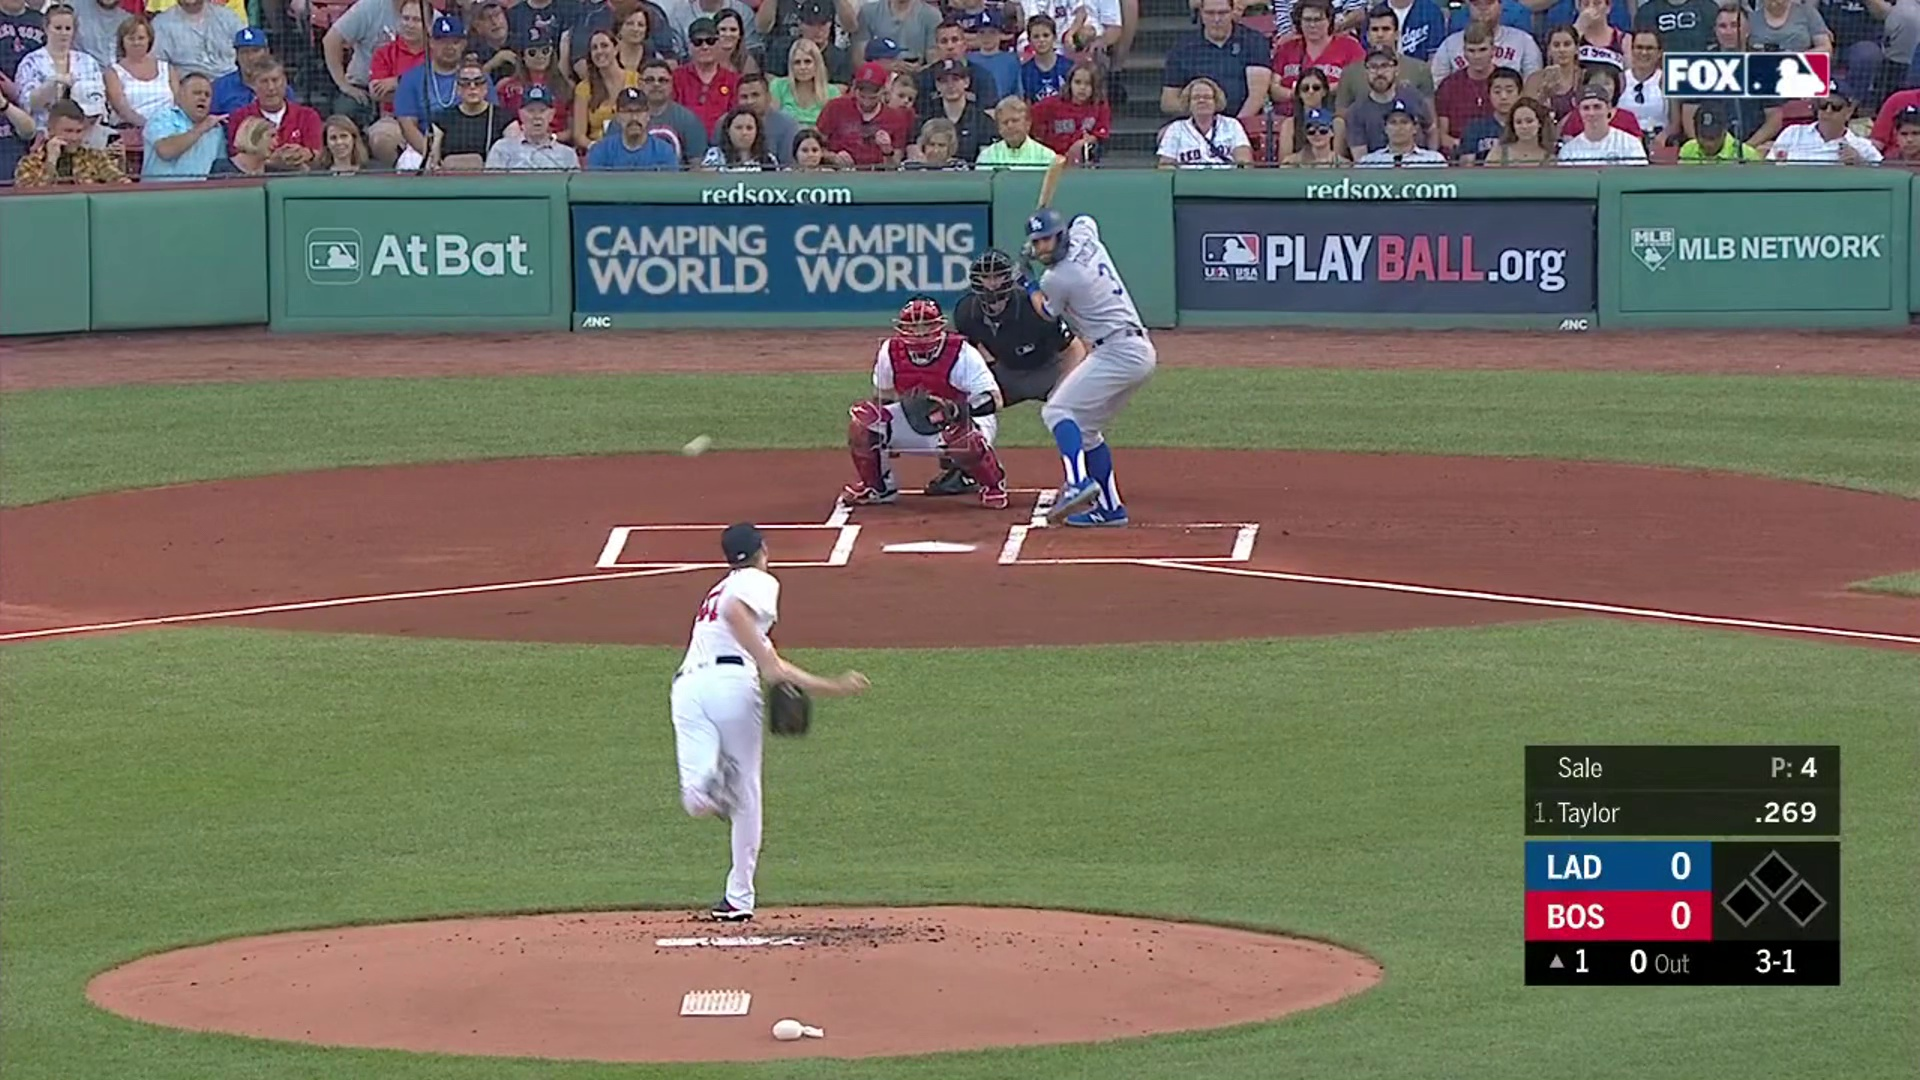baseball: (680, 431, 709, 458)
